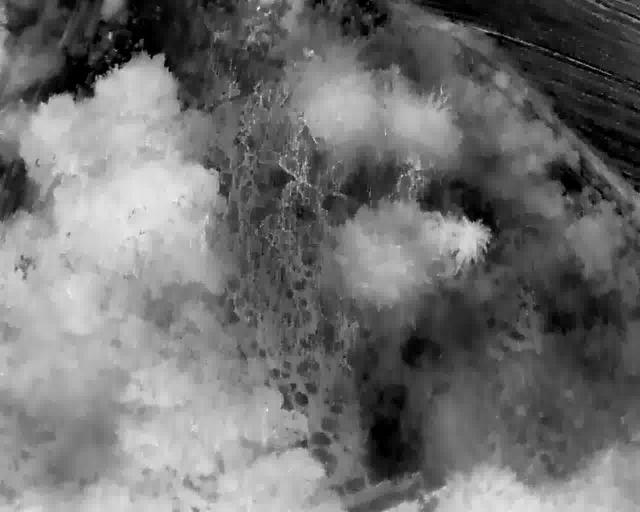person: (389, 502, 397, 510)
